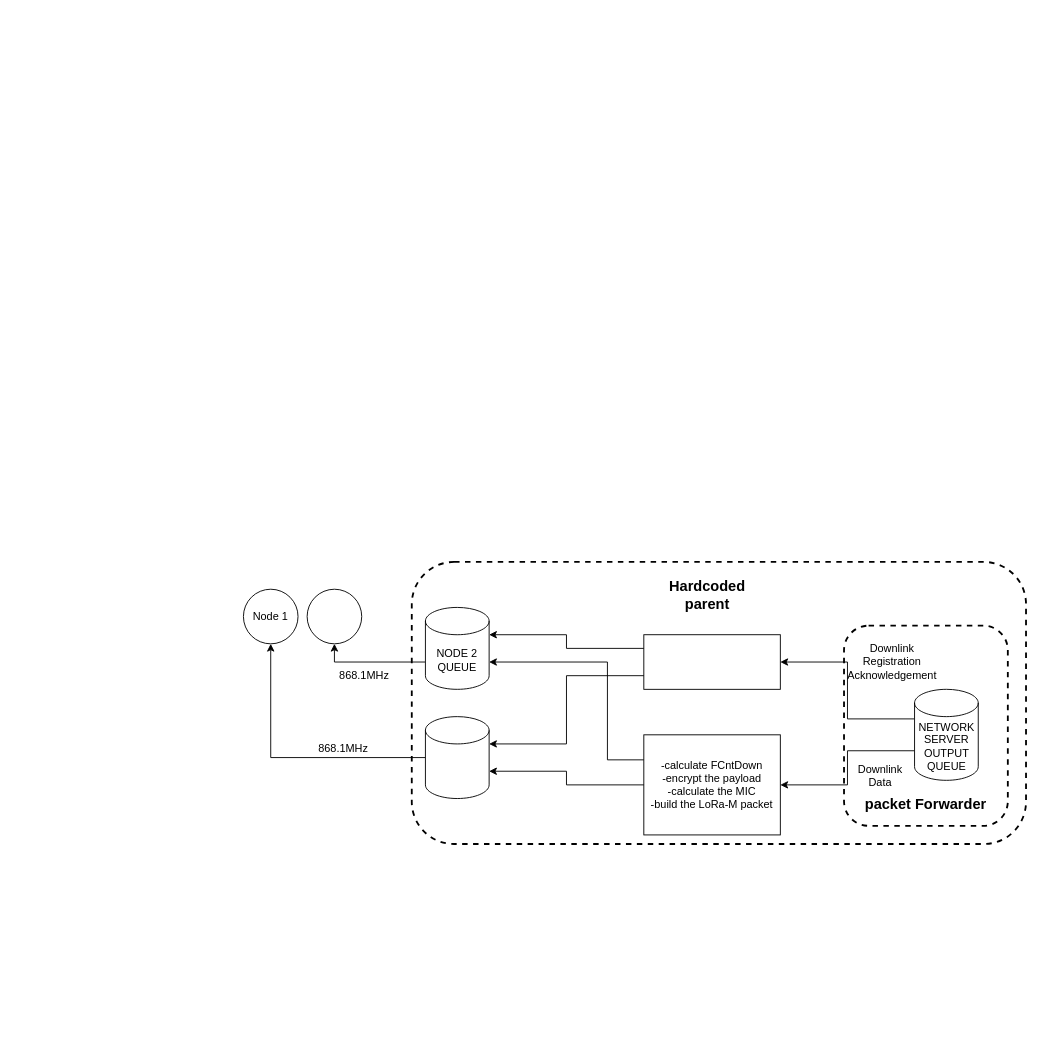
Some shapes in this 1042 by 1050 pixel diagram are drawn without their labels. Each missing label, with the centre of its shape:
"-calcualte the MIC -encrypt the fields -build the LoRa-M packet" goes at point 711,661.
"NODE 1 QUEUE" goes at point 457,757.
"Node 2" goes at point 334,616.
